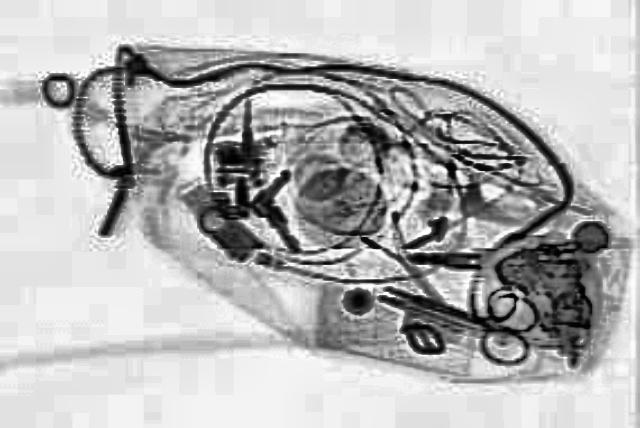Scissors: (356, 261, 560, 367)
